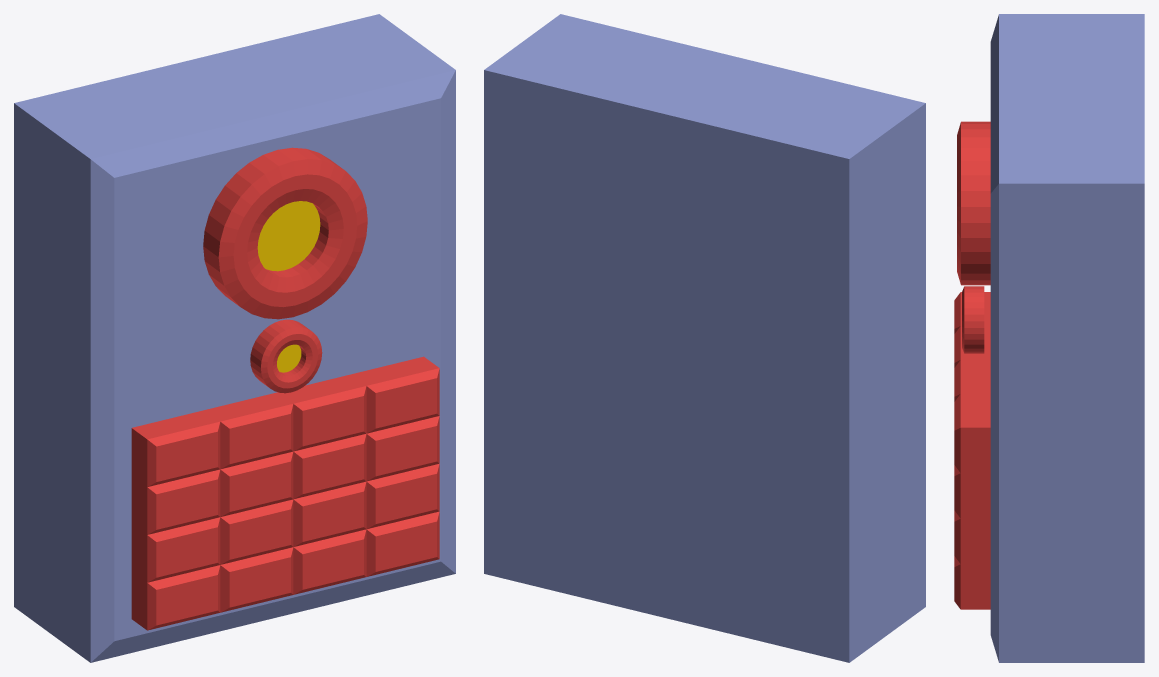
The model's file is keyPad.fbx.
3 views of the same model, side by side, from view 1: azimuth 30°, elevation 25°; view 2: azimuth 150°, elevation 25°; view 3: azimuth 270°, elevation 25° (orthographic). The views are drawn at different scales.
Visible parts, largest first — view 1: keyPad; view 2: keyPad; view 3: keyPad.
Boxes of the visible parts, box(x1,y1,x2,y2) form: keyPad: box(14, 14, 455, 662); keyPad: box(484, 14, 925, 662); keyPad: box(954, 14, 1144, 662).
Size of the model in its own units: 100 by 132 by 47.44.
